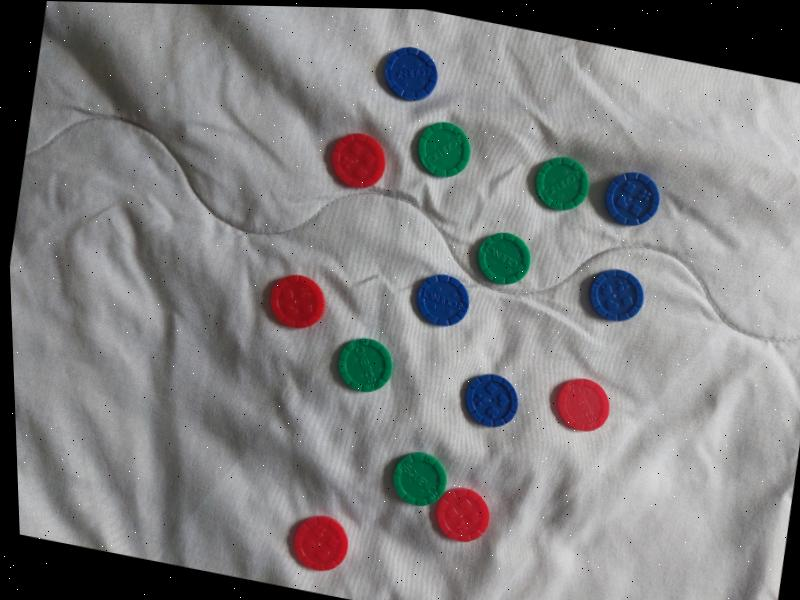Blue_Token: (594, 162, 673, 237), (372, 38, 448, 111), (406, 263, 480, 336), (580, 259, 653, 331), (457, 367, 527, 434)
Green_Token: (326, 326, 405, 405), (405, 111, 479, 187), (383, 443, 458, 516), (469, 221, 542, 294), (526, 147, 598, 220)
Red_Token: (282, 508, 364, 585), (319, 122, 397, 201), (544, 366, 622, 442), (426, 478, 498, 552), (262, 264, 333, 338)
